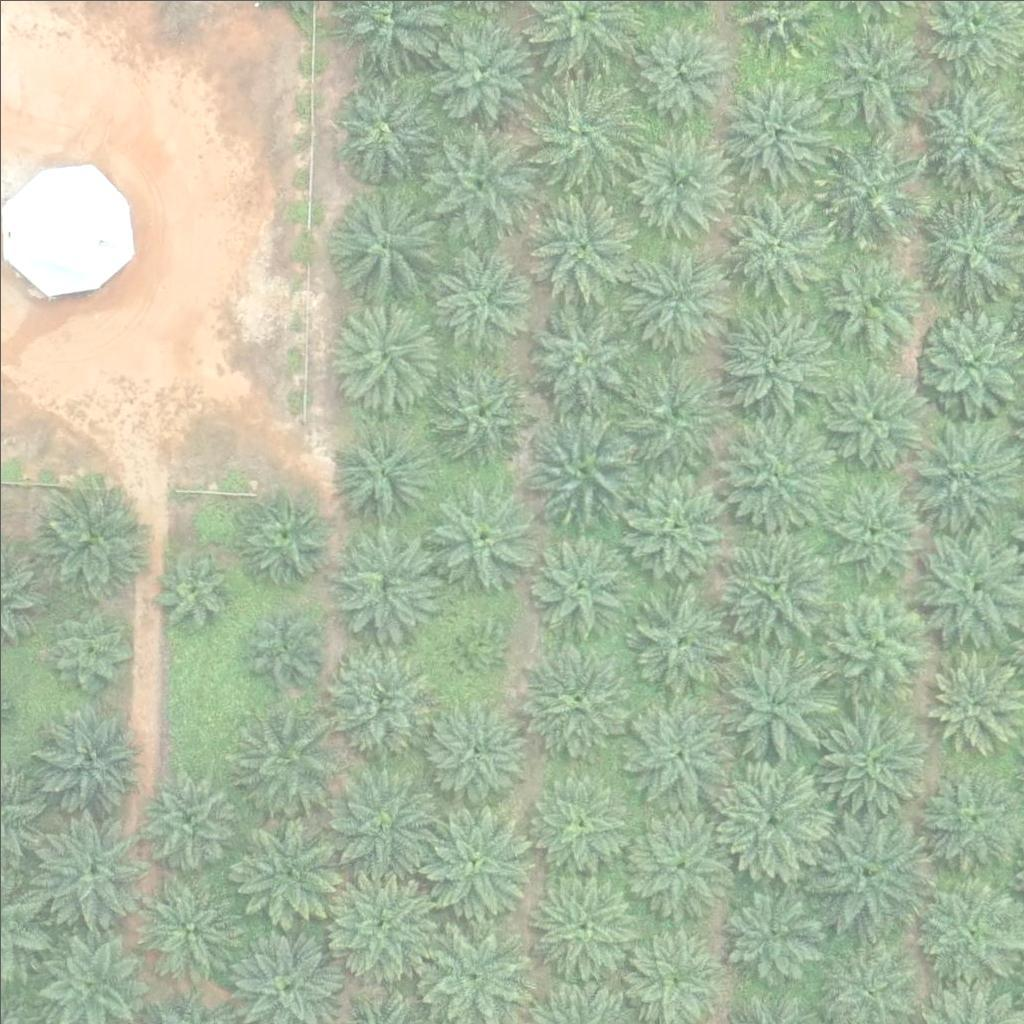Kelapa_Sawit: (322, 645, 435, 759), (416, 804, 529, 918), (821, 588, 934, 702), (716, 530, 829, 644), (716, 412, 829, 526), (617, 356, 730, 470), (616, 241, 729, 355), (32, 812, 145, 925), (29, 697, 142, 810), (134, 876, 247, 989), (318, 865, 431, 978), (324, 770, 437, 883), (714, 762, 827, 875), (717, 650, 830, 763), (808, 813, 921, 926), (815, 701, 928, 814), (720, 300, 833, 413), (713, 182, 826, 295), (620, 123, 733, 236), (424, 479, 537, 592), (427, 357, 540, 470), (328, 522, 441, 635), (324, 418, 437, 531), (324, 295, 437, 408), (329, 183, 442, 296), (29, 484, 142, 597), (521, 866, 633, 980), (616, 466, 728, 580), (524, 301, 636, 415), (525, 184, 637, 298), (422, 123, 534, 237), (224, 816, 336, 929), (225, 709, 337, 822), (519, 641, 631, 754), (620, 804, 732, 917), (616, 694, 728, 807), (911, 873, 1023, 986), (908, 418, 1020, 531), (815, 363, 927, 476), (818, 133, 930, 246), (622, 585, 734, 698), (524, 409, 636, 522), (530, 76, 642, 189), (425, 12, 537, 125), (721, 79, 833, 192), (817, 20, 929, 133), (135, 768, 235, 869), (922, 653, 1022, 754), (818, 252, 918, 353), (526, 532, 626, 633), (421, 701, 521, 801), (528, 770, 628, 870), (719, 880, 819, 980), (823, 475, 923, 575), (431, 250, 531, 350), (332, 77, 432, 177), (238, 490, 326, 579), (43, 601, 130, 689), (634, 27, 721, 115), (242, 603, 317, 679), (156, 553, 231, 628), (438, 613, 500, 676)
